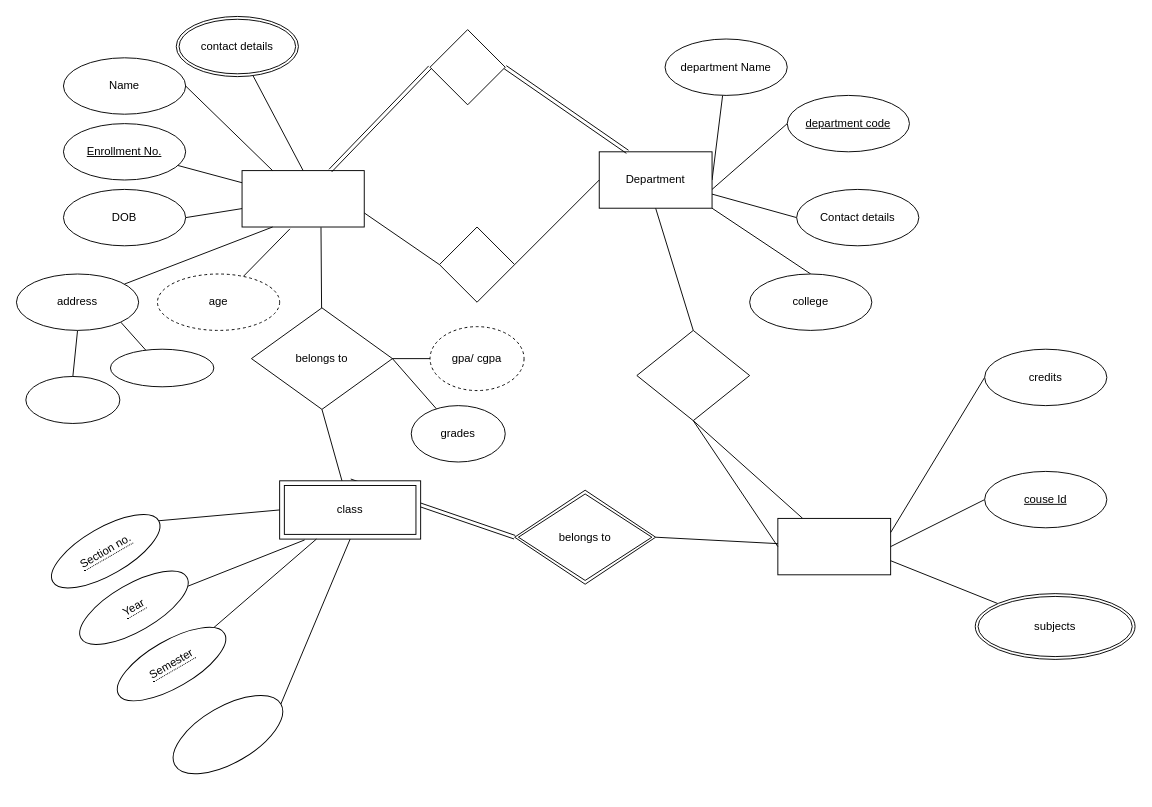
The diagram is 1152 pixels wide and 807 high, and some of its shapes have lost their labels. Each missing label, with the centre of its shape:
"add line 1" belongs at [162,367].
"Courses" belongs at [834,546].
"instructor" belongs at [227,734].
"line 2" belongs at [72,399].
"Major" belongs at [467,67].
"Minor" belongs at [477,264].
"offer courses" belongs at [693,375].
"Student" belongs at [302,198].
